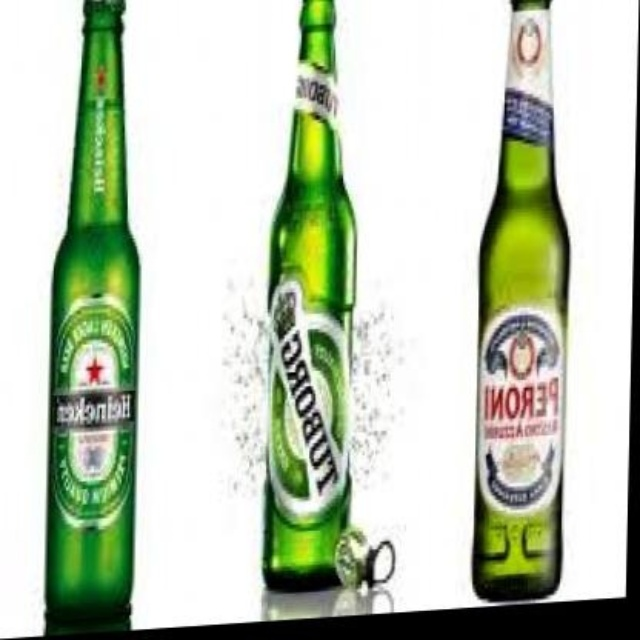trash: (472, 0, 568, 598), (46, 0, 137, 629), (263, 0, 354, 588)
